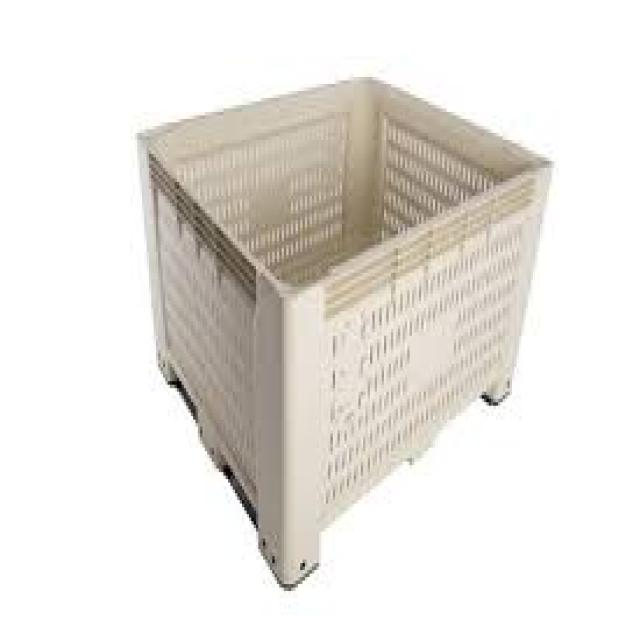basket: (119, 49, 613, 602)
